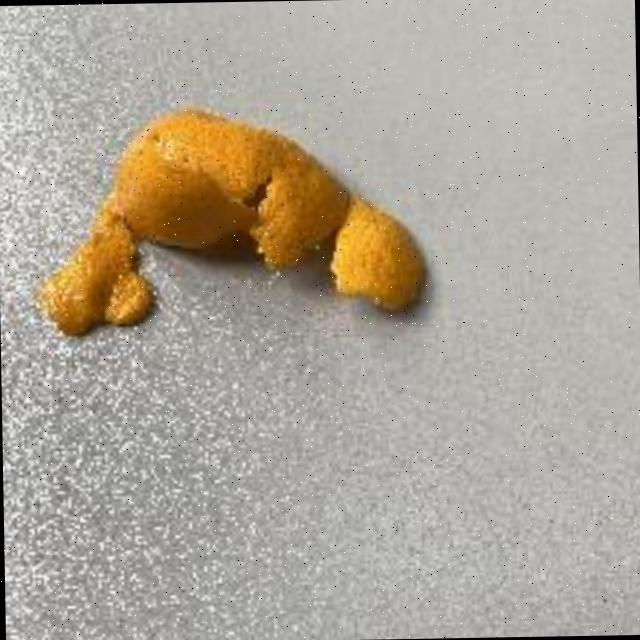orange-peel: (31, 100, 428, 338)
